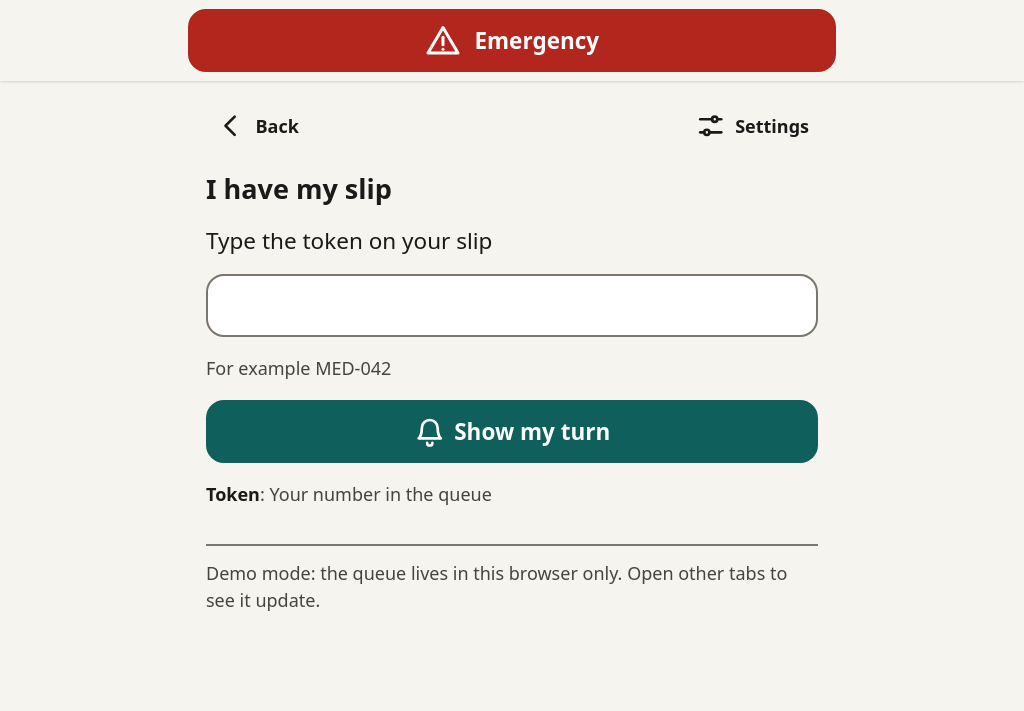
Scenario: I have my slip › accepts a typed token in a loose form and opens My turn
Type "chi 1" into the field labelled "Type the token on your slip".
click(512, 306); type("chi 1")  # box x1=206 y1=274 x2=818 y2=338
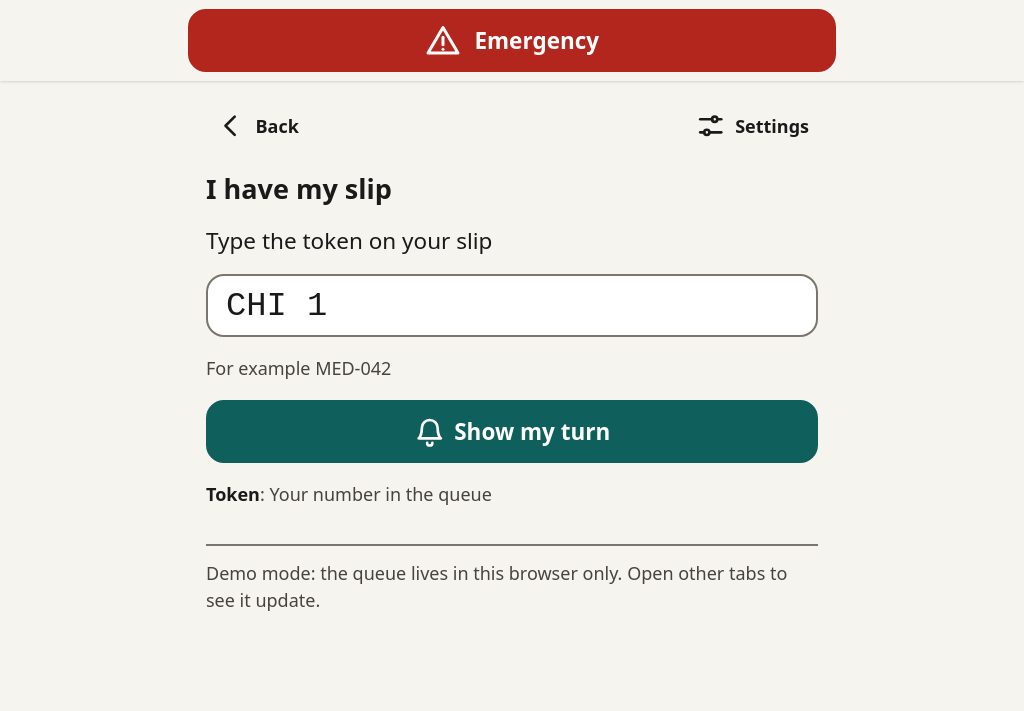
Click the button "Show my turn".
click(512, 432)  # box x1=206 y1=400 x2=818 y2=464
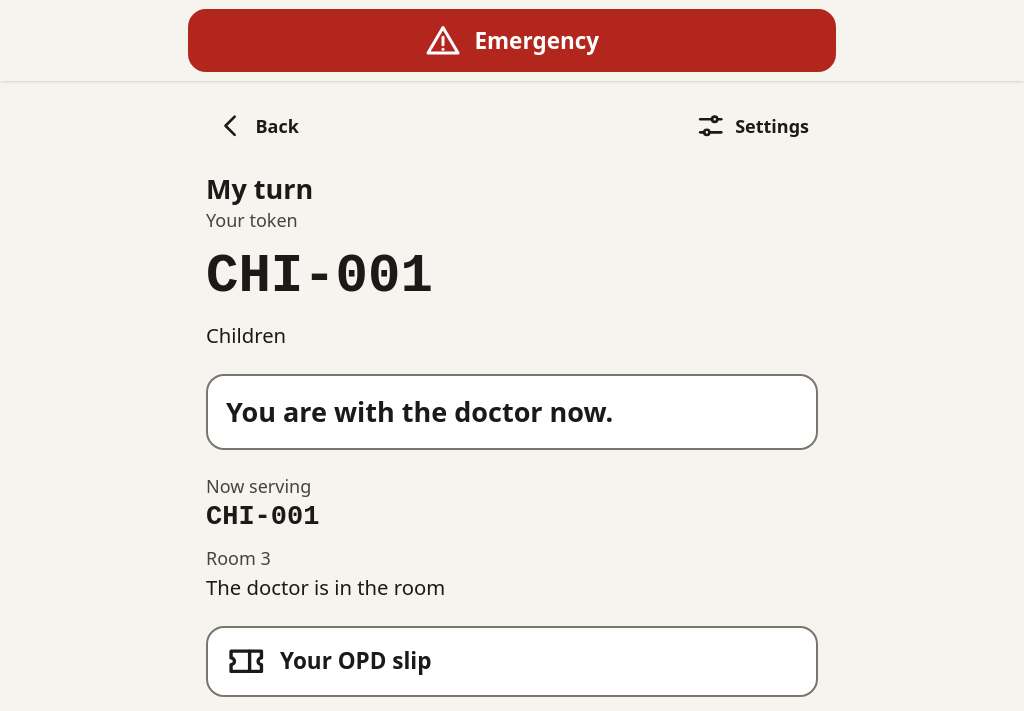
Expected: the heading reads "My turn", x1=206 y1=170 x2=313 y2=207
Now the text "CHI-001" below "Your token" is shown, box x1=206 y1=246 x2=433 y2=307
